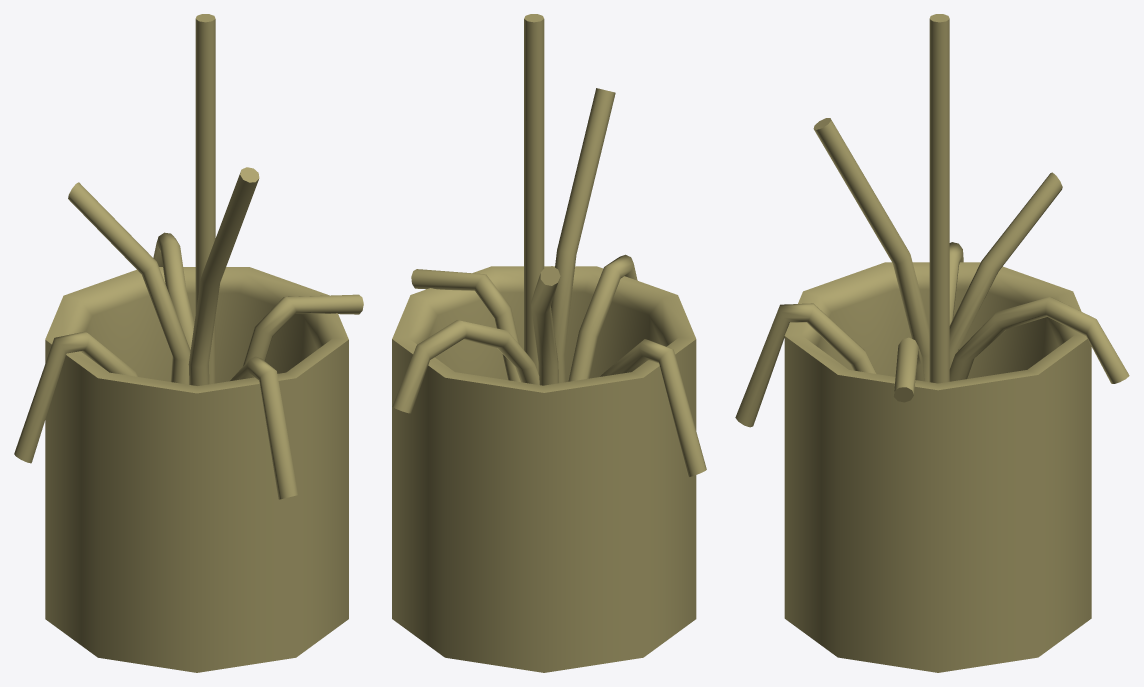
Rendered from Maceta.fbx.
3 views of the same model, side by side, from view 1: azimuth 30°, elevation 25°; view 2: azimuth 150°, elevation 25°; view 3: azimuth 270°, elevation 25° (orthographic).
Parts seen in each view (by area): view 1: Maceta_low, Leaves_low; view 2: Maceta_low, Leaves_low; view 3: Maceta_low, Leaves_low.
Part boxes in pixels (<box>): Maceta_low: <box>45,267,348,672</box>; Leaves_low: <box>14,14,363,499</box>; Maceta_low: <box>392,266,696,672</box>; Leaves_low: <box>392,14,706,476</box>; Maceta_low: <box>784,262,1091,672</box>; Leaves_low: <box>735,14,1129,427</box>.
Bounding box in the file's own units: 67.11 × 118 × 71.33.
